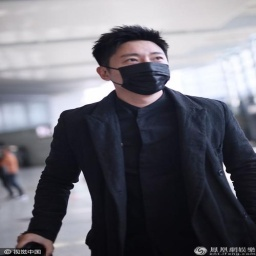correctlyWear: (95, 48, 170, 96)
